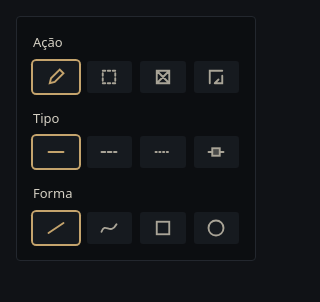
it: WallPanel › with Porta, the shapes other than Reta are disabled with the hint "Porta é sempre reta."
This screenshot has width=320, height=302.
Step 1. Click the radio button named "Porta" → (216, 152), box [194,136,239,168]
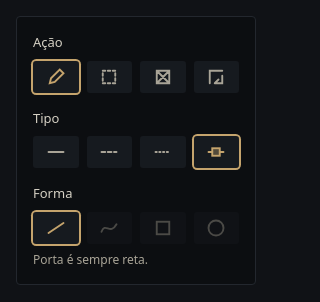
expect the radio button named "Mão livre" is disabled: met, box [86,212,132,244]
expect the radio button named "Quadrado" is disabled: met, box [140,212,186,244]
expect the radio button named "Círculo" is disabled: met, box [194,212,239,244]
